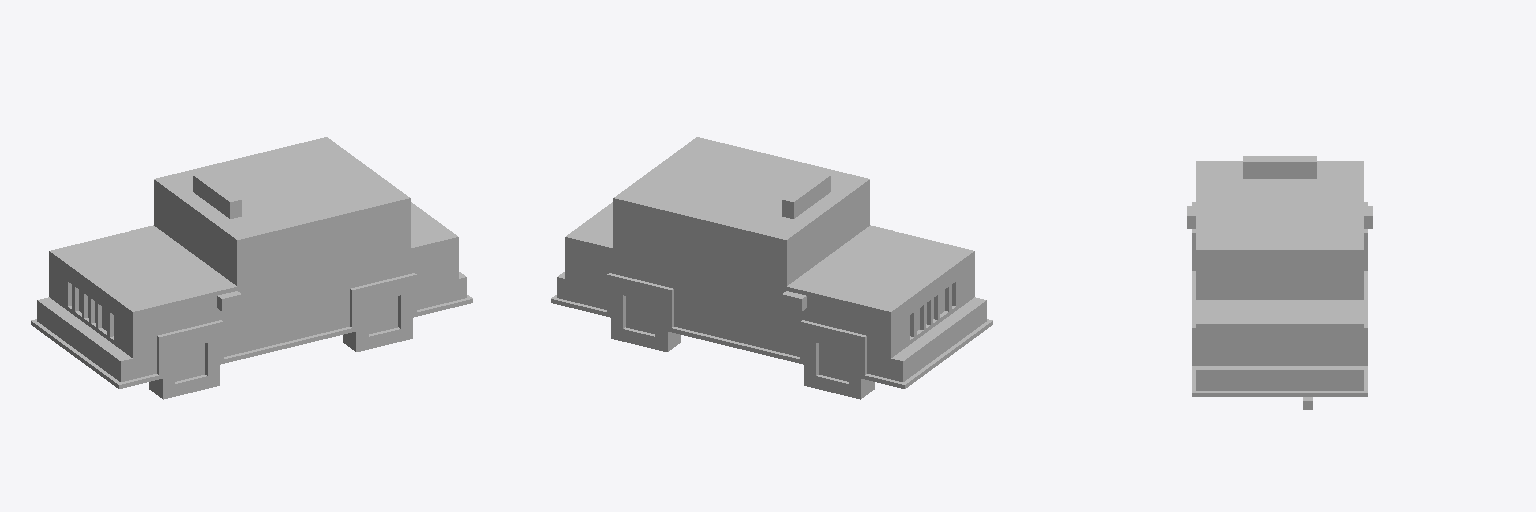
File: alll cars3-136.obj
3 views of the same model, side by side, from view 1: azimuth 30°, elevation 25°; view 2: azimuth 150°, elevation 25°; view 3: azimuth 270°, elevation 25° (orthographic).
Visible parts, largest first — view 1: object 1; view 2: object 1; view 3: object 1.
Boxes of the visible parts, x1,y1,x2,y2 form: object 1: [31, 137, 472, 399]; object 1: [551, 137, 992, 399]; object 1: [1187, 156, 1372, 409].
Size of the model in its own units: 9 by 3.7 by 4.